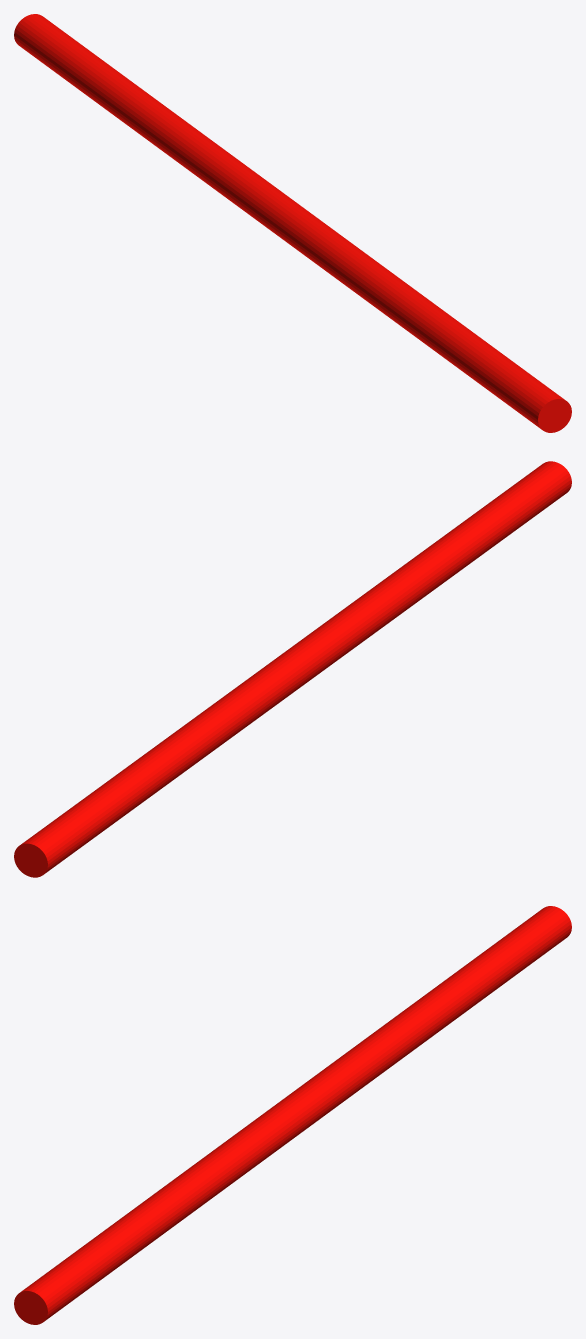
File: Lazer.fbx
3 views of the same model, one above another, from view 1: azimuth 30°, elevation 25°; view 2: azimuth 150°, elevation 25°; view 3: azimuth 330°, elevation 25° (orthographic).
Parts seen in each view (by area): view 1: Cylinder; view 2: Cylinder; view 3: Cylinder.
Boxes of the visible parts, x1=… form: Cylinder: x1=14, y1=14, x2=571, y2=432; Cylinder: x1=14, y1=461, x2=571, y2=877; Cylinder: x1=14, y1=906, x2=571, y2=1324.
Bounding box in the file's own units: 75.28 × 72.93 × 2010.
